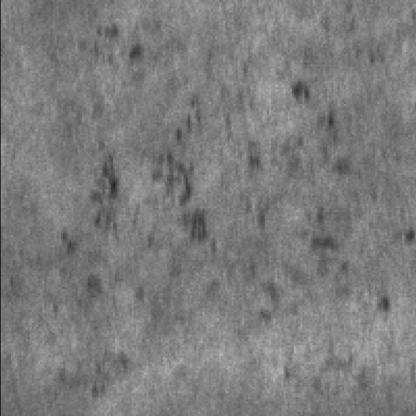rolled-in_scale: (245, 77, 346, 329), (83, 124, 210, 301)
